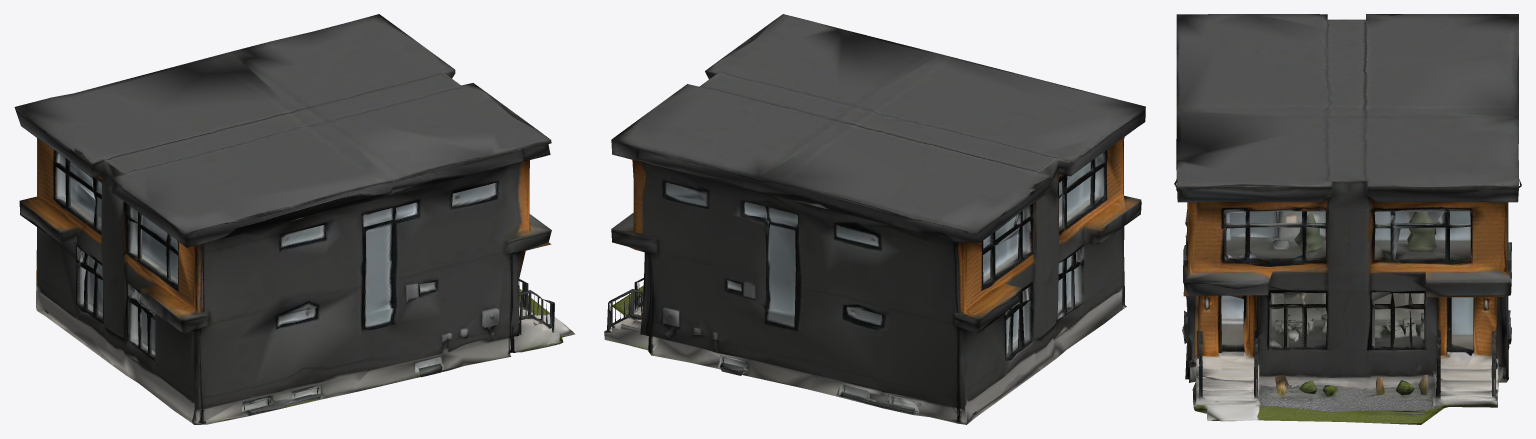
Rendered from lod_house_infill.glb.
3 renders of one model, left to right at view 1: azimuth 30°, elevation 25°; view 2: azimuth 150°, elevation 25°; view 3: azimuth 270°, elevation 25°, orthographic.
Parts seen in each view (by area): view 1: tripo_node_43ac2e86-4bbb-42d1-be5f-de21029c7171; view 2: tripo_node_43ac2e86-4bbb-42d1-be5f-de21029c7171; view 3: tripo_node_43ac2e86-4bbb-42d1-be5f-de21029c7171.
Boxes of the visible parts, <box> form: tripo_node_43ac2e86-4bbb-42d1-be5f-de21029c7171: <box>14,14,574,424</box>; tripo_node_43ac2e86-4bbb-42d1-be5f-de21029c7171: <box>604,14,1145,424</box>; tripo_node_43ac2e86-4bbb-42d1-be5f-de21029c7171: <box>1174,14,1521,424</box>.
Bounding box in the file's own units: 0.9914 × 0.4949 × 0.7252.
1 material, 1 textured.
